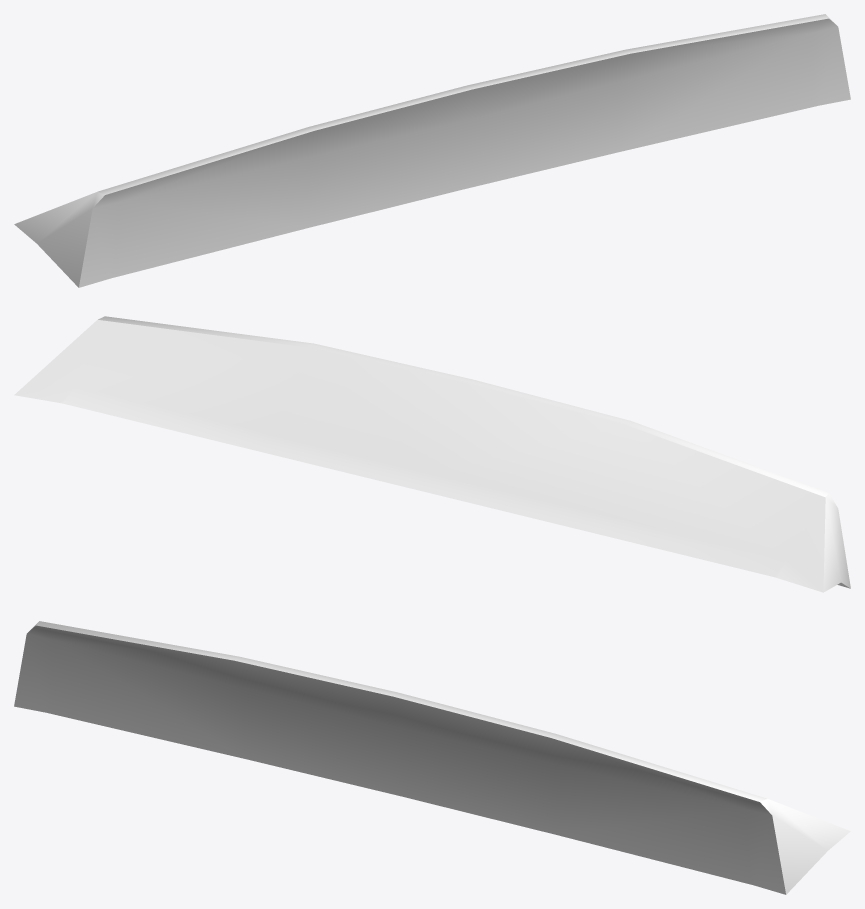
File: GTO_Spoiler01.fbx
3 renders of one model, top to bottom at view 1: azimuth 30°, elevation 25°; view 2: azimuth 150°, elevation 25°; view 3: azimuth 330°, elevation 25°, orthographic.
Parts seen in each view (by area): view 1: Empty_Mesh; view 2: Empty_Mesh; view 3: Empty_Mesh.
Part boxes in pixels (box(x1,y1,x2,y2)): Empty_Mesh: box(14, 14, 850, 287); Empty_Mesh: box(14, 316, 850, 592); Empty_Mesh: box(14, 621, 850, 894).
Size of the model in its own units: 146 by 18.96 by 16.89.
